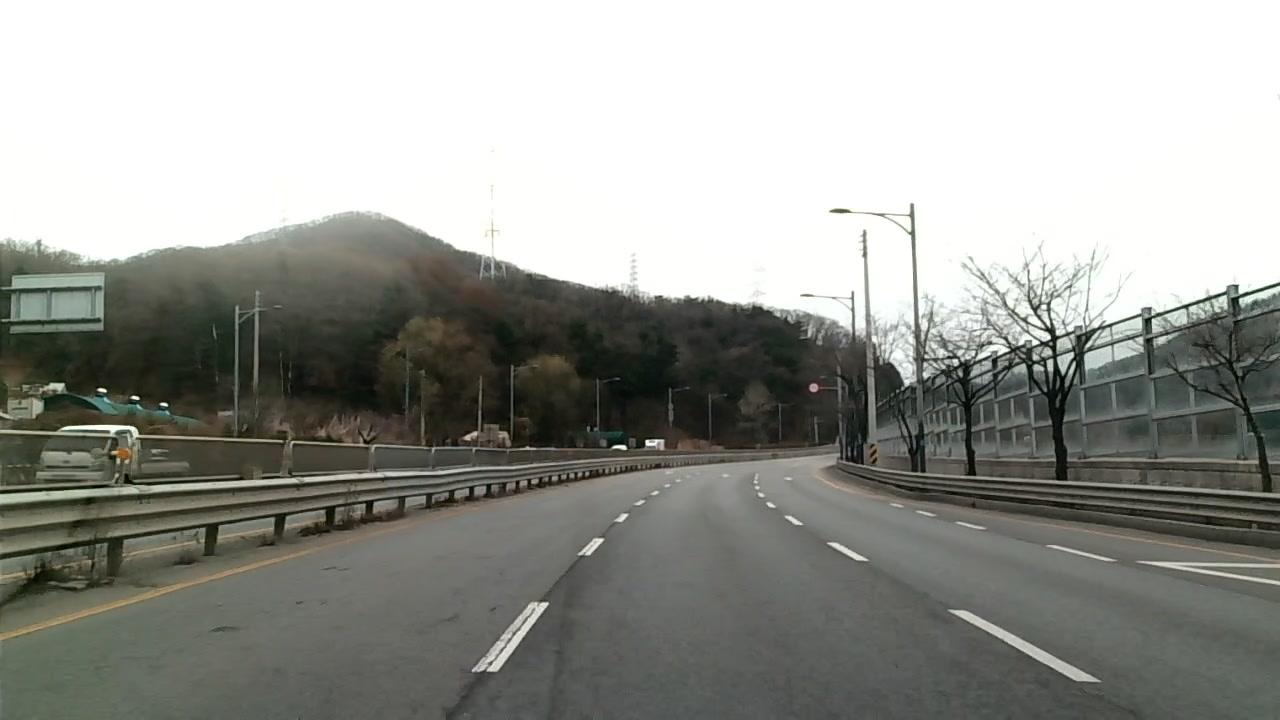banner: (378, 520, 623, 720), (294, 558, 351, 612), (210, 620, 246, 642)
